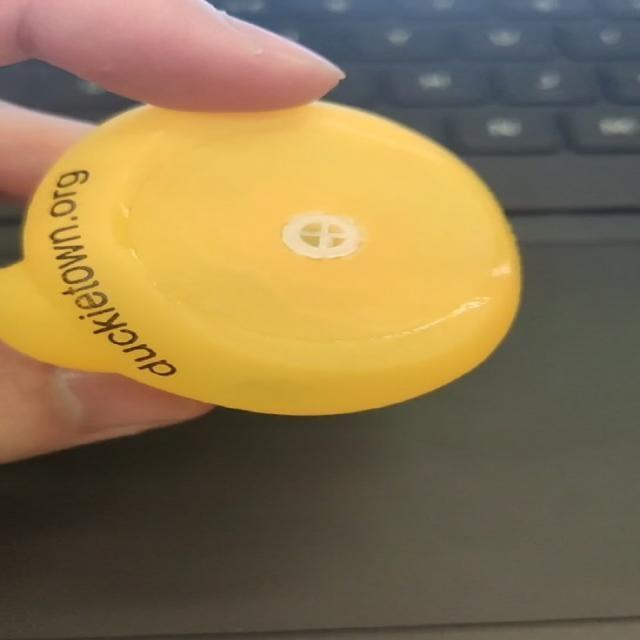rubber-duck: (0, 101, 519, 413)
